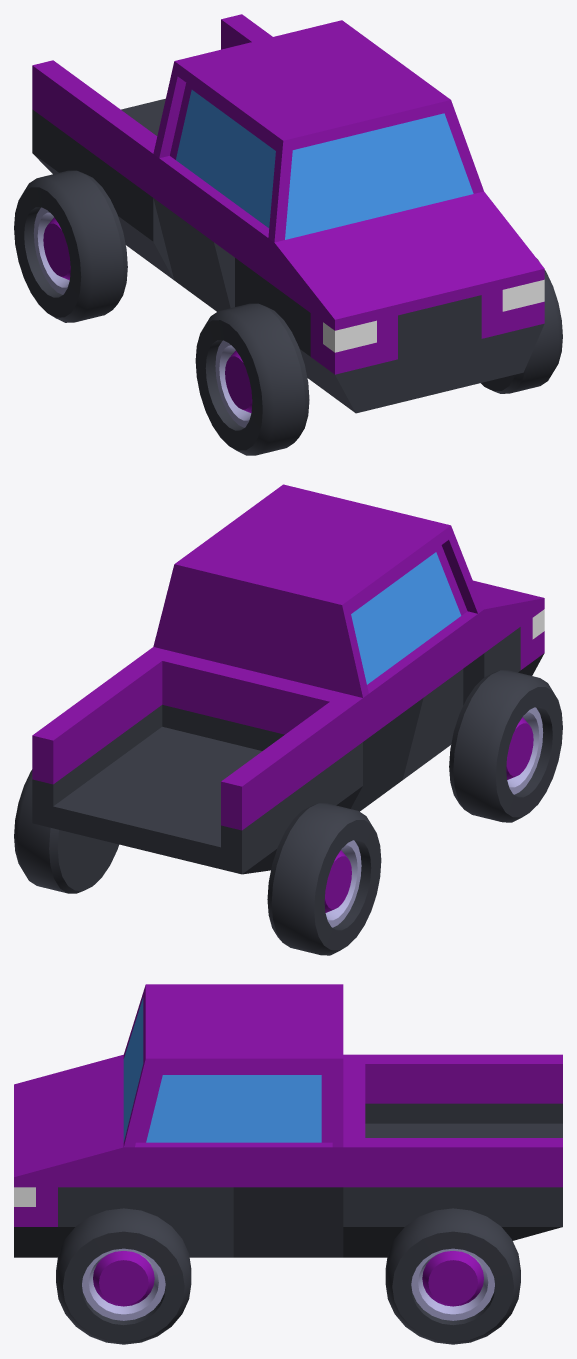
The model's file is car2.fbx.
The picture shows the model from 3 angles, top to bottom: view 1: azimuth 30°, elevation 25°; view 2: azimuth 150°, elevation 25°; view 3: azimuth 270°, elevation 25°; orthographic projection. The views are drawn at different scales.
Parts seen in each view (by area): view 1: body_topStraight, body_frontTruckShort, wheel_classic (×3), body_backBed, body_sports; view 2: body_backBed, body_topStraight, wheel_classic (×3), body_sports, body_frontTruckShort; view 3: body_backBed, body_topStraight, wheel_classic (×2), body_sports, body_frontTruckShort.
Part boxes in pixels (x1=…): body_topStraight: x1=153, y1=20, x2=483, y2=242; body_frontTruckShort: x1=274, y1=191, x2=544, y2=413; wheel_classic (×3): x1=14, y1=170, x2=562, y2=455; body_backBed: x1=32, y1=14, x2=272, y2=279; body_sports: x1=153, y1=154, x2=274, y2=311; body_backBed: x1=32, y1=647, x2=362, y2=874; body_topStraight: x1=153, y1=484, x2=483, y2=697; wheel_classic (×3): x1=14, y1=670, x2=562, y2=955; body_sports: x1=351, y1=609, x2=484, y2=811; body_frontTruckShort: x1=463, y1=580, x2=544, y2=705; body_backBed: x1=343, y1=1054, x2=562, y2=1257; body_topStraight: x1=123, y1=984, x2=343, y2=1147; wheel_classic (×2): x1=56, y1=1208, x2=520, y2=1344; body_sports: x1=123, y1=1142, x2=343, y2=1257; body_frontTruckShort: x1=14, y1=1054, x2=123, y2=1257.
Size of the model in its own units: 14.33 by 13.08 by 25.
